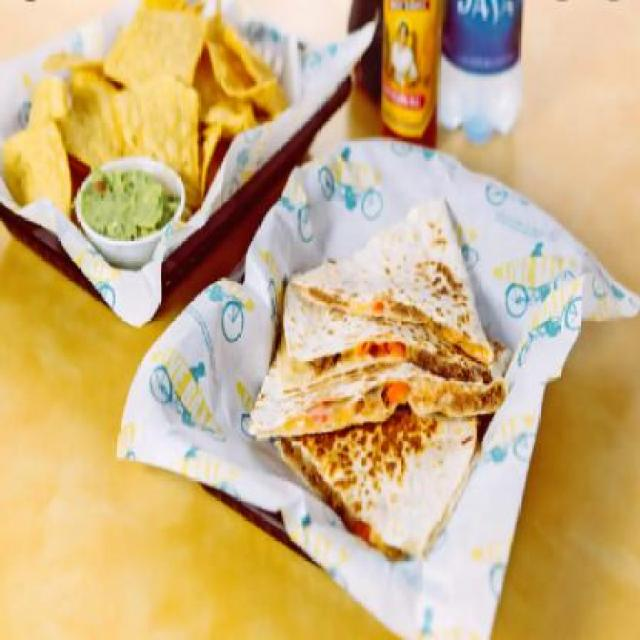chicken quesadilla: (250, 185, 518, 564)
guacamole: (73, 156, 185, 256)
